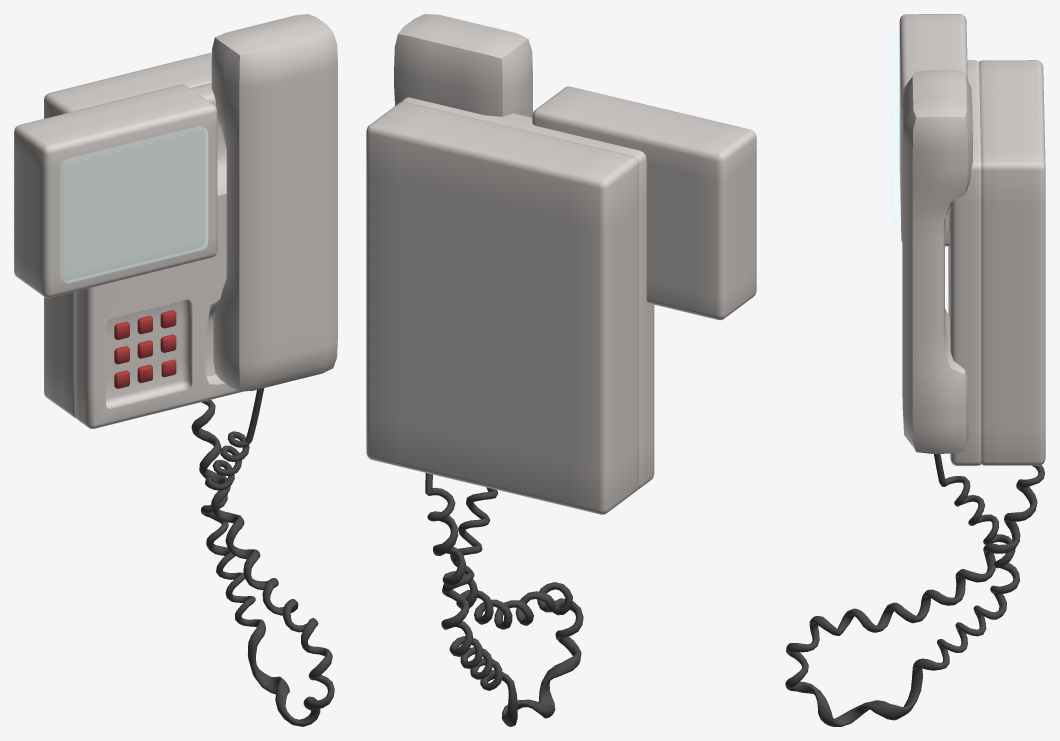
Rendered from Phone.fbx.
The picture shows the model from 3 angles, left to right: view 1: azimuth 30°, elevation 25°; view 2: azimuth 150°, elevation 25°; view 3: azimuth 270°, elevation 25°; orthographic projection. The views are drawn at different scales.
Visible parts, largest first — view 1: PhoneBase, Phone, Emissive, Wire, Buttons; view 2: PhoneBase, Phone, Wire; view 3: PhoneBase, Phone, Wire, Emissive.
Part boxes in pixels (left/top/right/bottom): PhoneBase: left=14, top=52, right=243, bottom=428; Phone: left=211, top=14, right=337, bottom=391; Emissive: left=61, top=126, right=207, bottom=282; Wire: left=191, top=388, right=334, bottom=726; Buttons: left=114, top=310, right=176, bottom=388; PhoneBase: left=366, top=86, right=756, bottom=514; Phone: left=394, top=14, right=532, bottom=117; Wire: left=425, top=473, right=583, bottom=726; PhoneBase: left=899, top=14, right=1045, bottom=465; Phone: left=902, top=69, right=972, bottom=453; Wire: left=785, top=454, right=1044, bottom=726; Emissive: left=889, top=37, right=900, bottom=223.
Size of the model in its own units: 1.48 by 3.01 by 1.09.
